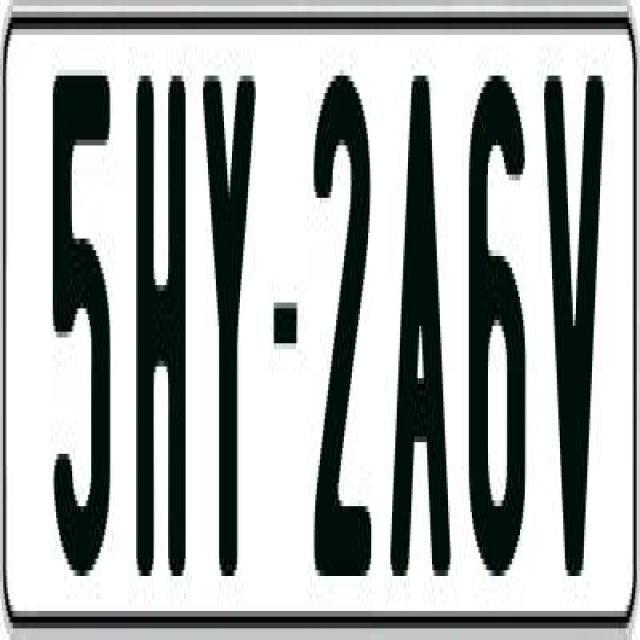2: (310, 70, 378, 570)
5: (48, 58, 110, 588)
6: (468, 70, 526, 570)
A: (388, 70, 454, 576)
H: (136, 58, 186, 559)
V: (544, 70, 606, 606)
Y: (200, 58, 262, 582)
